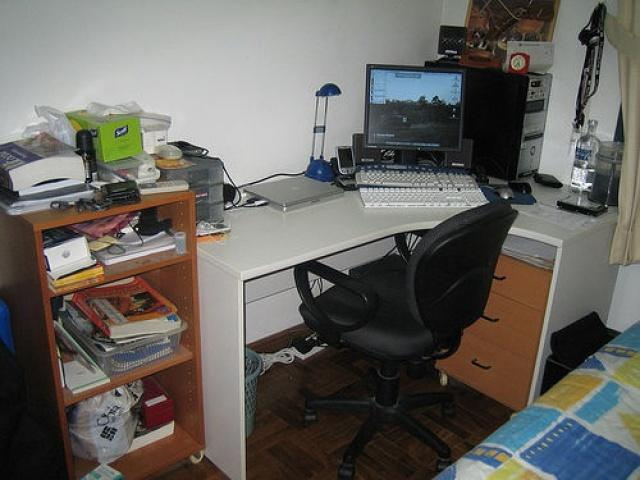AIO PC-Monitor-TV: (362, 61, 467, 151)
Kursi: (291, 198, 518, 479)
Rak: (33, 190, 205, 479)
